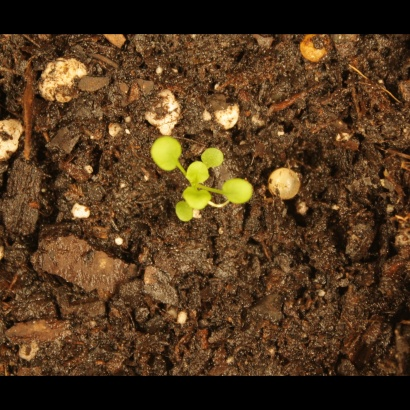leaf: (139, 129, 187, 173), (220, 172, 257, 211), (167, 198, 198, 231), (182, 185, 215, 215), (199, 142, 226, 172), (185, 161, 212, 188)
